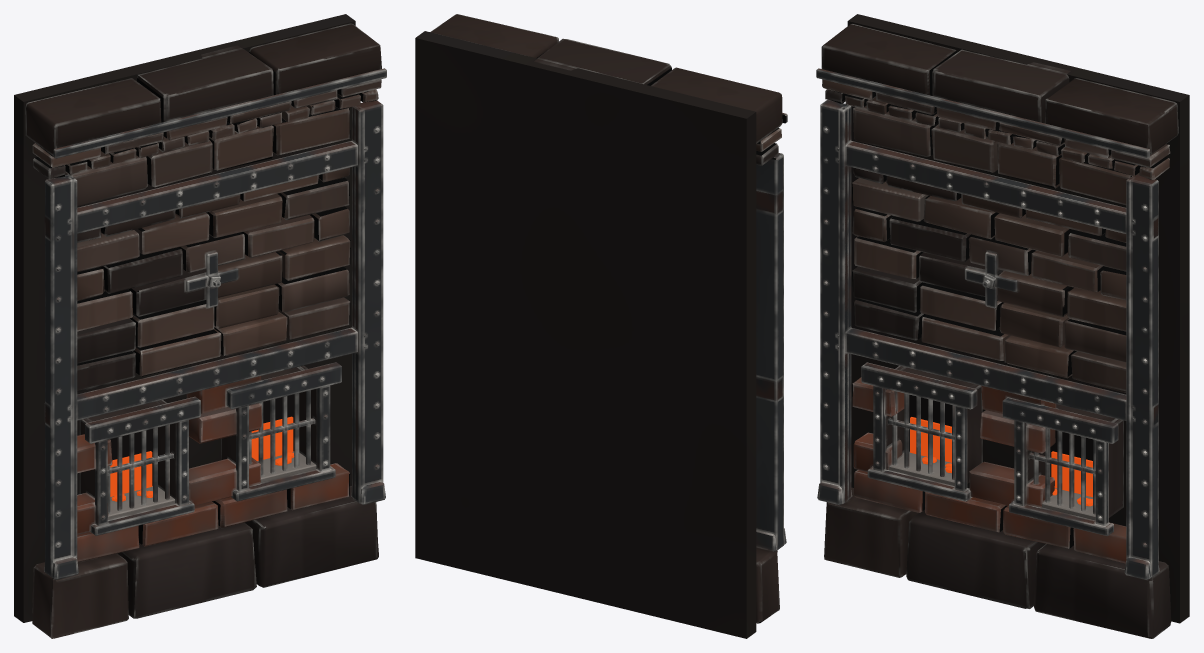
Rendered from foundry_wall_vents.glb.
3 views of the same model, side by side, from view 1: azimuth 30°, elevation 25°; view 2: azimuth 150°, elevation 25°; view 3: azimuth 330°, elevation 25° (orthographic).
Parts seen in each view (by area): view 1: foundry_wall_vents, foundry_wall_vents_glow; view 2: foundry_wall_vents; view 3: foundry_wall_vents, foundry_wall_vents_glow.
Part boxes in pixels (x1,y1,x2,y2): foundry_wall_vents: (14,14,386,638); foundry_wall_vents_glow: (110,416,294,501); foundry_wall_vents: (415,14,787,638); foundry_wall_vents: (816,14,1189,638); foundry_wall_vents_glow: (910,417,1092,506).
Size of the model in its own units: 4 by 6.01 by 0.865.
Materials: 2 (1 with a texture image).
